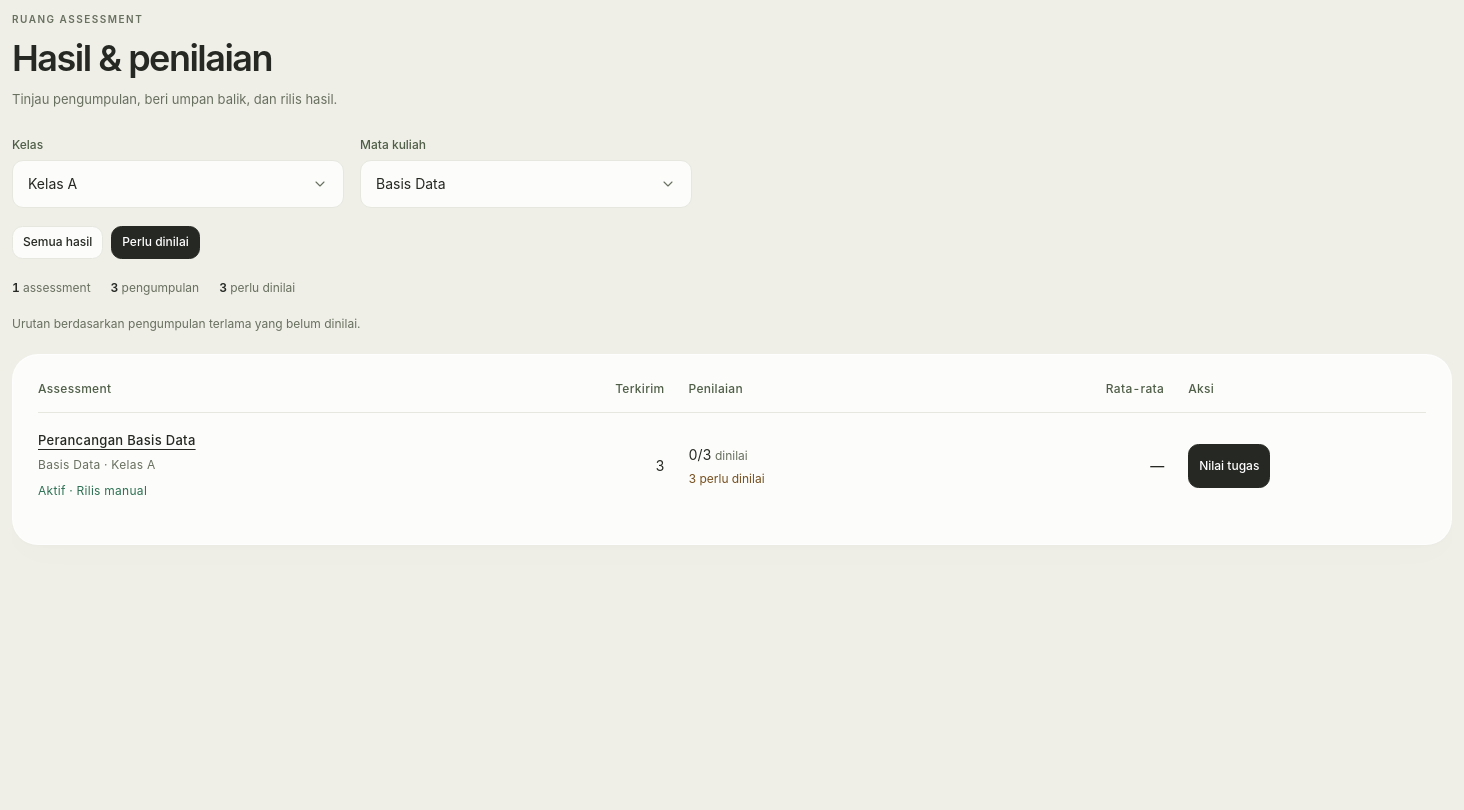
it: class comparison and class register › preserves the chosen class and course through grading, saving and the return to the register
Click the link with class "register-grade": (1229, 466) [1188,444,1270,488]
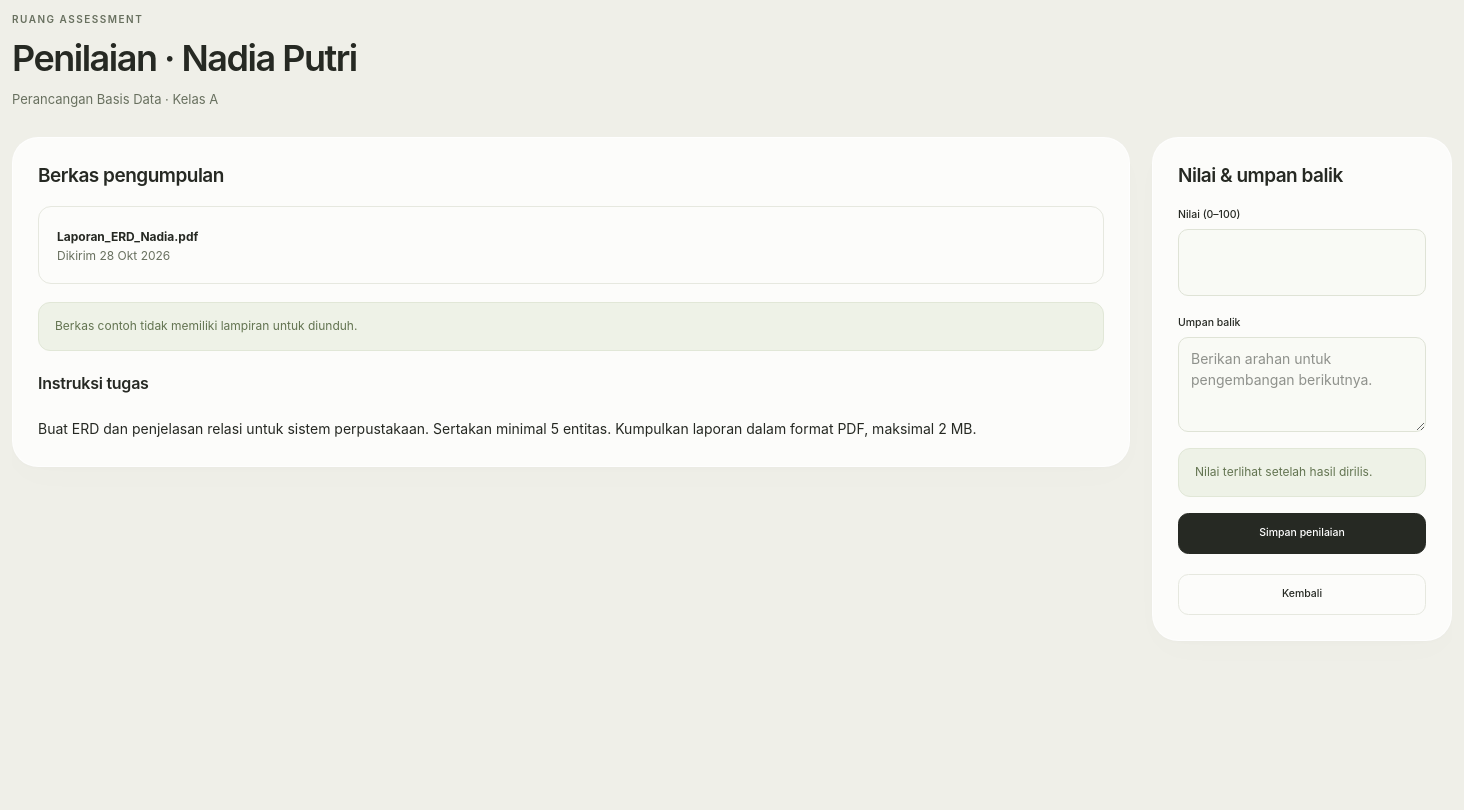
In the number field with class "grade-score": (1302, 263) [1178,229,1426,296], type "88"
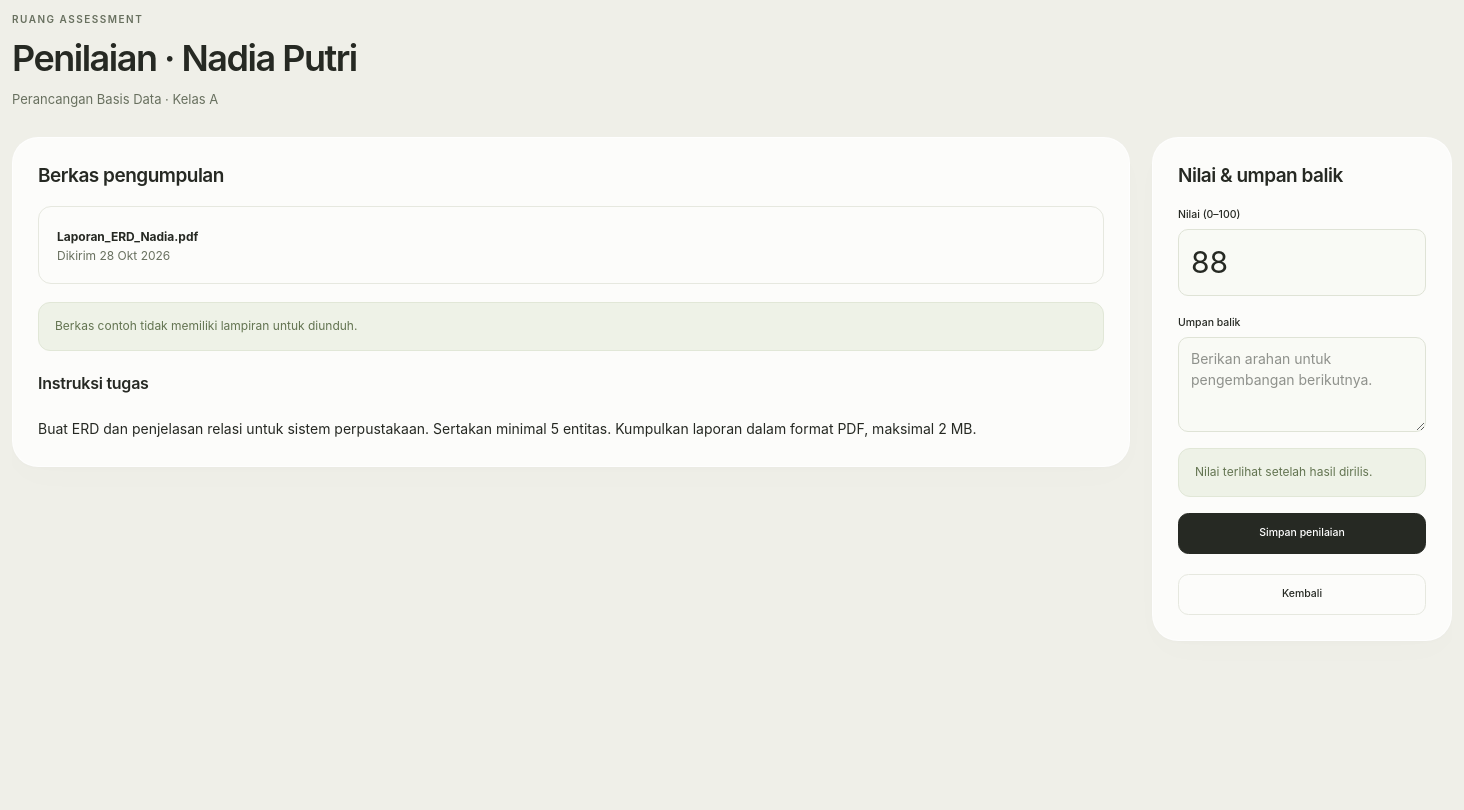
Submit the form, box [1152,136,1452,640]
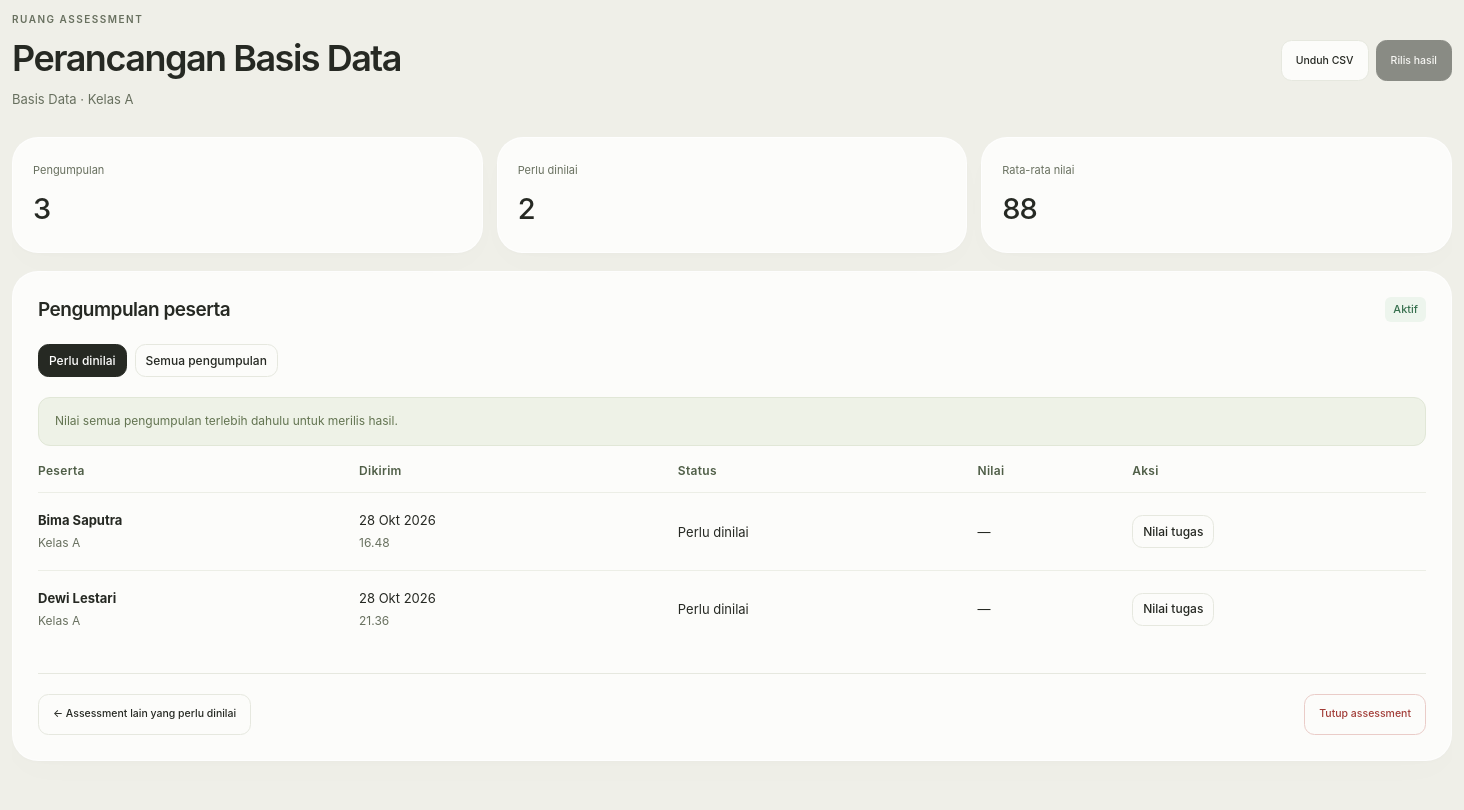
Now the button "Rilis hasil" is disabled, box [1376,40,1452,81]
Click the link "← Assessment lain yang perlu dinilai": (145, 714) [38,694,251,735]
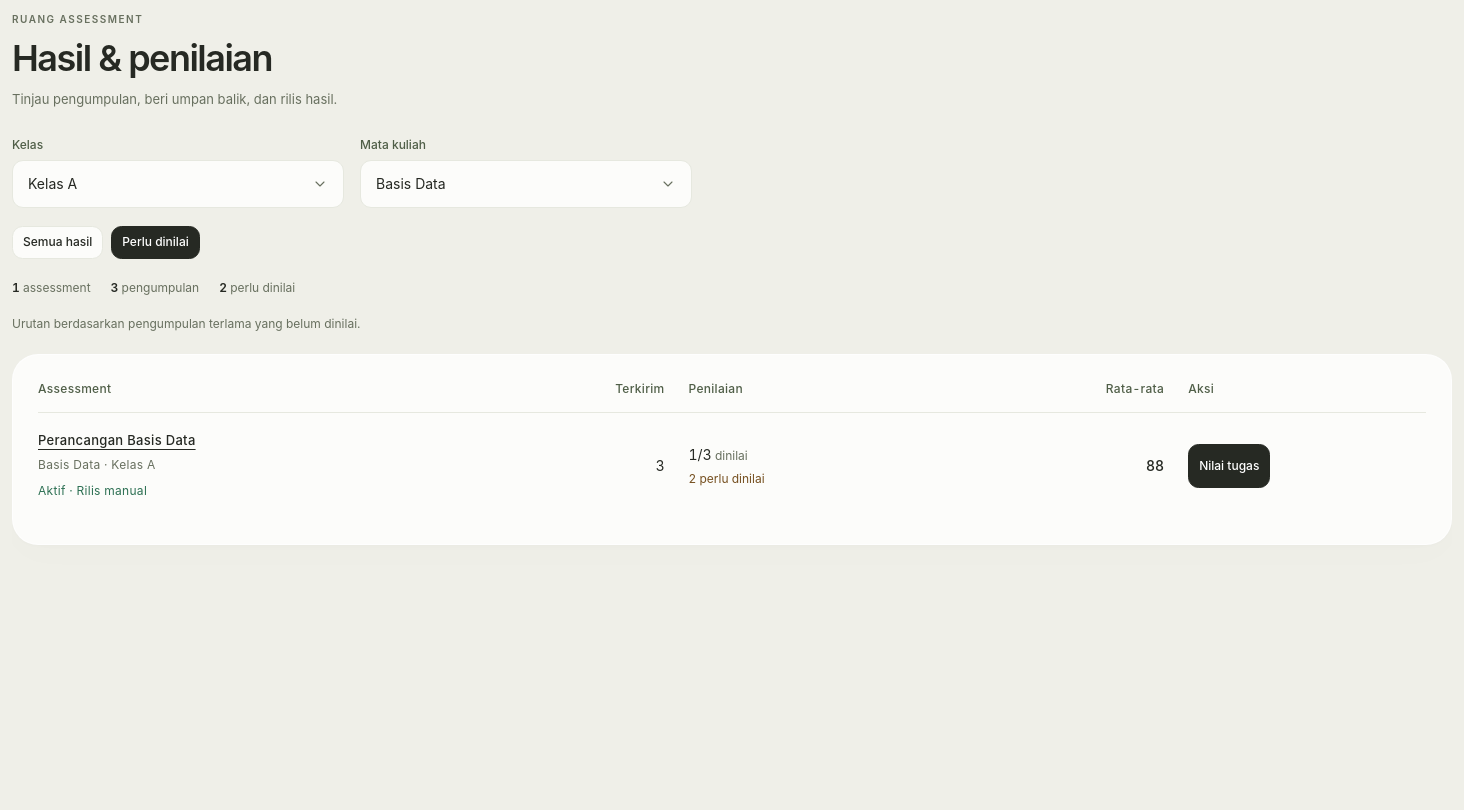
Now the cell with class "register-average" reads "88", box [1146,457,1164,474]
Now the element with class "register-summary" shows "3 pengumpulan", box [12,280,295,294]
Now the element with class "register-summary" shows "2 perlu dinilai", box [12,280,295,294]
